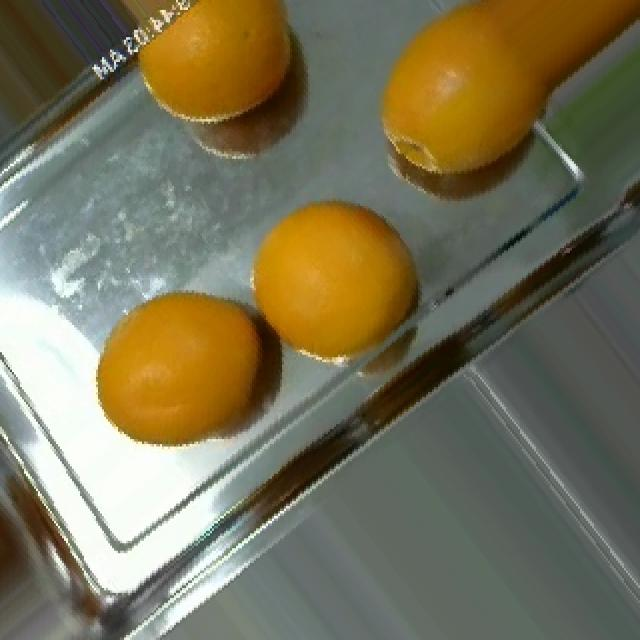Fruit: (228, 186, 440, 402), (76, 285, 274, 479), (114, 0, 312, 166)
